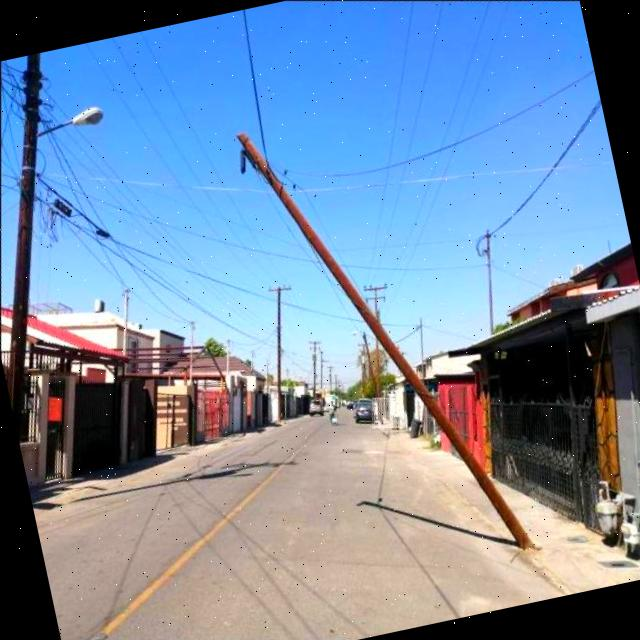Broken Pole: (235, 132, 533, 550)
